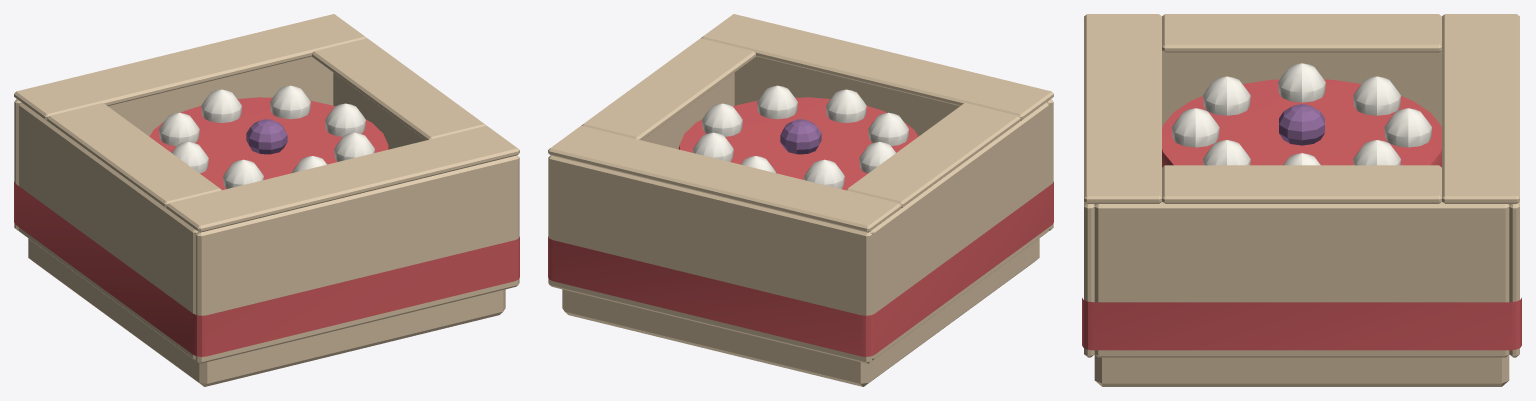
The model's file is fresh-produce-and-groceries-cake-box-e169fc10__24420.glb.
The picture shows the model from 3 angles, left to right: view 1: azimuth 30°, elevation 25°; view 2: azimuth 150°, elevation 25°; view 3: azimuth 270°, elevation 25°; orthographic projection. The views are drawn at different scales.
Parts seen in each view (by area): view 1: cake-box; view 2: cake-box; view 3: cake-box.
Part boxes in pixels (<box>): cake-box: <box>14,14,519,386</box>; cake-box: <box>548,14,1053,386</box>; cake-box: <box>1082,14,1521,386</box>.
Size of the model in its own units: 0.2484 by 0.123 by 0.2484.
